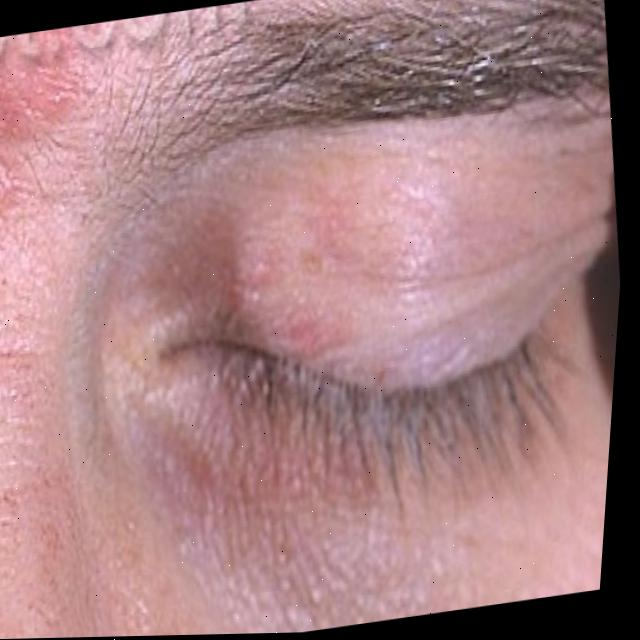Rosacea: (0, 30, 64, 187)
